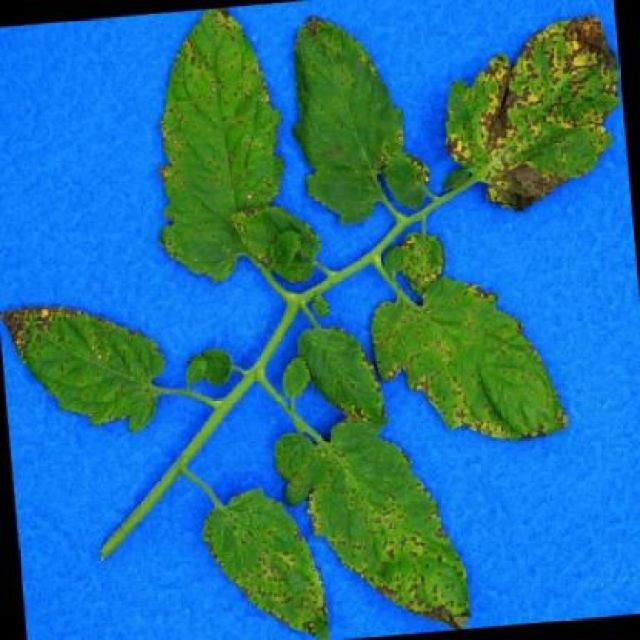Septoria leaf spot: (137, 3, 308, 326), (427, 0, 632, 232), (280, 396, 474, 638), (271, 0, 454, 232), (365, 263, 569, 460), (3, 275, 175, 454), (192, 471, 337, 640), (296, 316, 392, 432), (226, 195, 339, 291)
